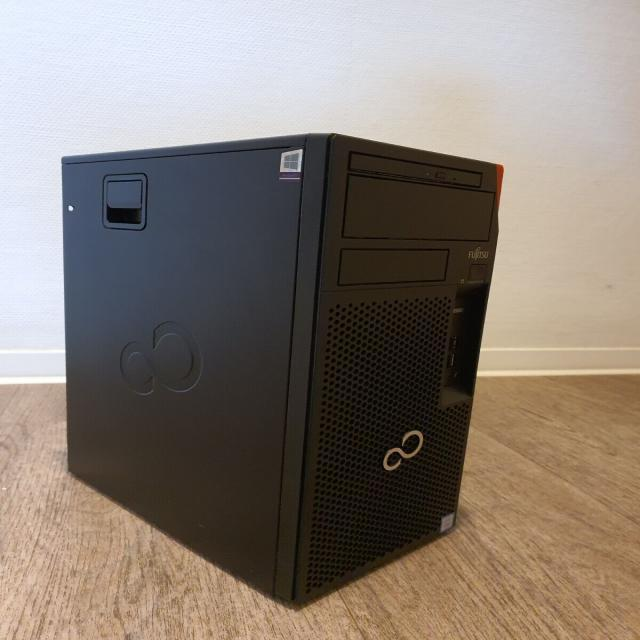Desktop-PC: (38, 123, 554, 605)
